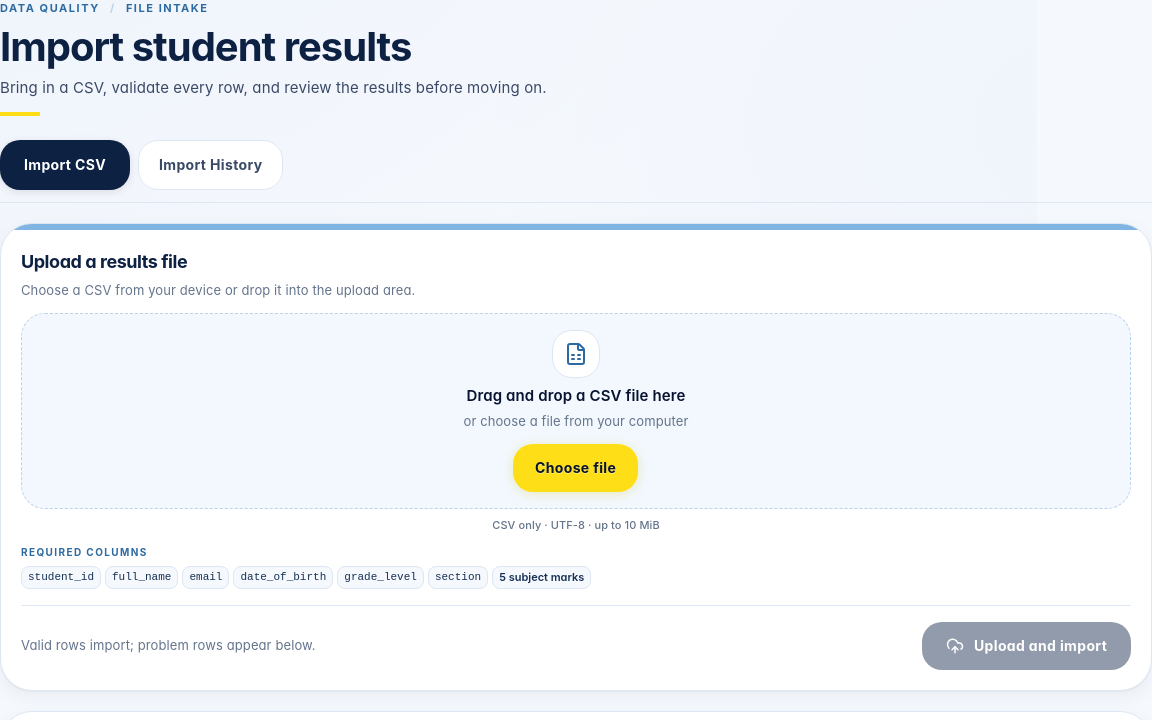
Test case: ImportPage › uses a contextual page heading without duplicating Import History
The width and height of the screenshot is (1152, 720).
Expected: the heading "Import student results" is shown, [0, 22, 411, 70]
Expected: the text "Bring in a CSV, validate every row, and review the results before moving on." is shown, [0, 78, 547, 97]
Click the button "Import History": [211, 165] box [138, 140, 284, 190]
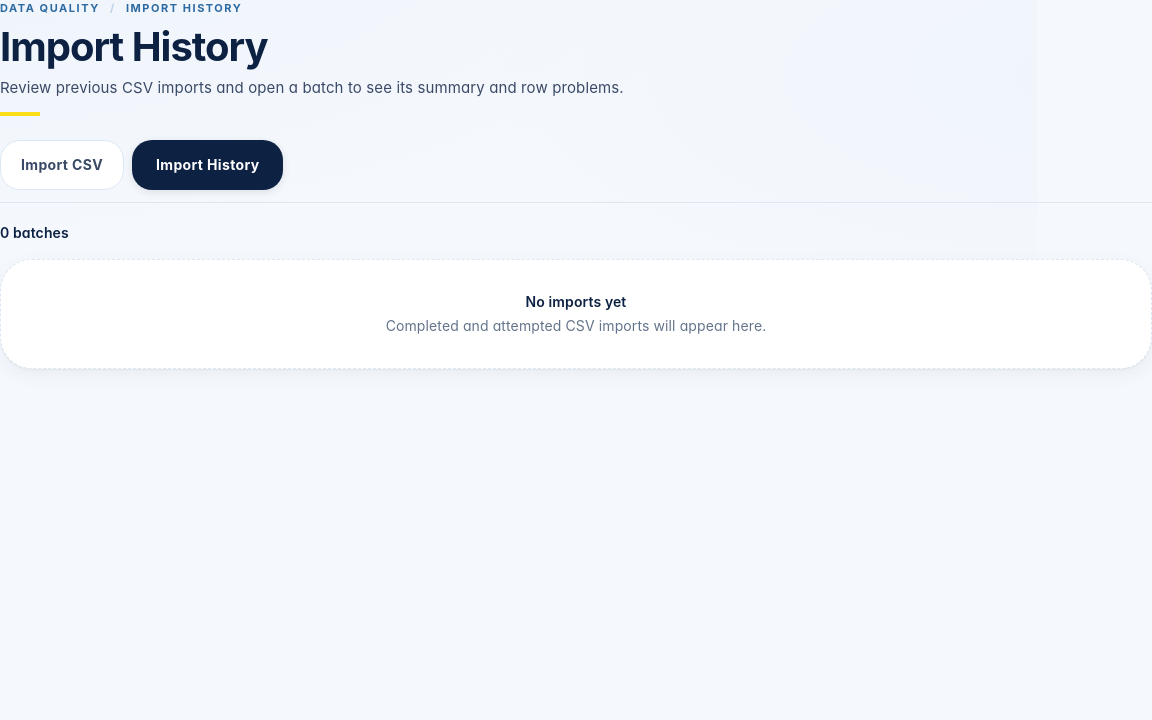
Expected: the number of headings "Import History" is 1, [0, 22, 268, 70]
Expected: the text "No imports yet" is shown, [526, 293, 626, 310]
Expected: the text "Review previous CSV imports and open a batch to see its summary and row problems." is shown, [0, 78, 624, 97]
Click the button "Import CSV": [62, 165] box [0, 140, 124, 190]
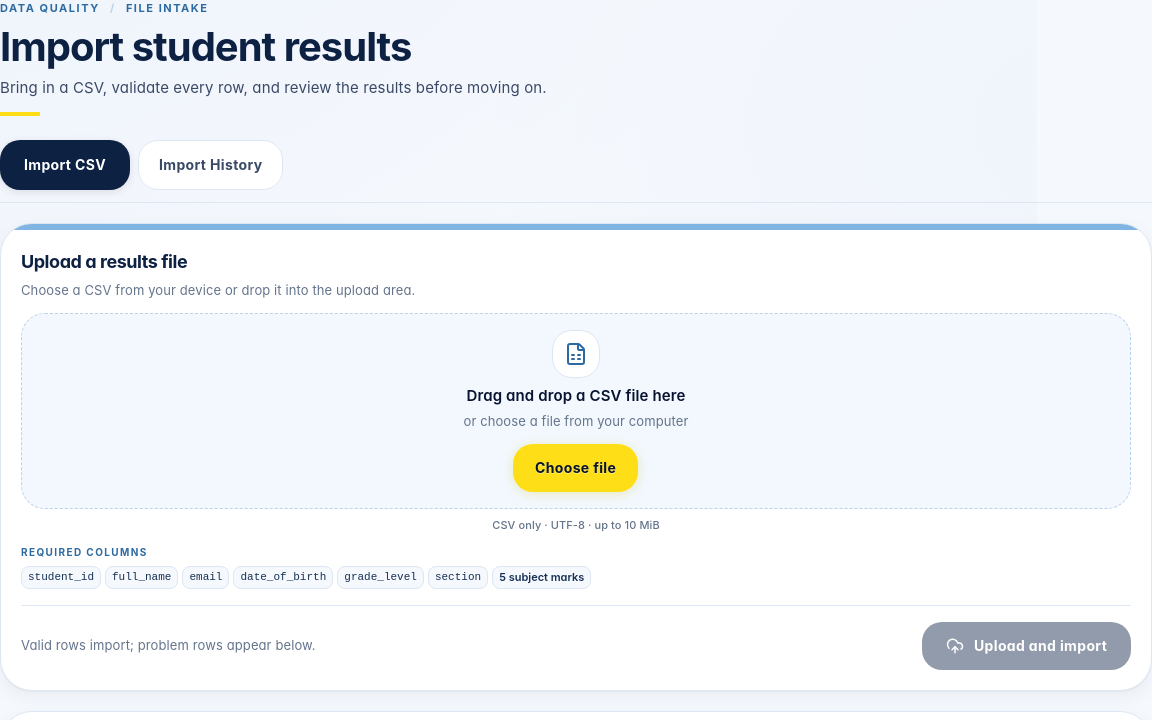
Expected: the heading "Import student results" is shown, [0, 22, 411, 70]
Expected: the heading "Upload a results file" is shown, [21, 251, 187, 272]
